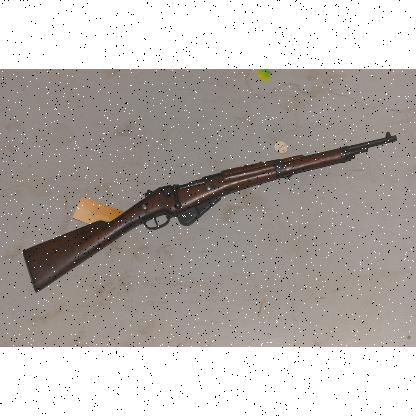gun: (25, 140, 385, 292)
